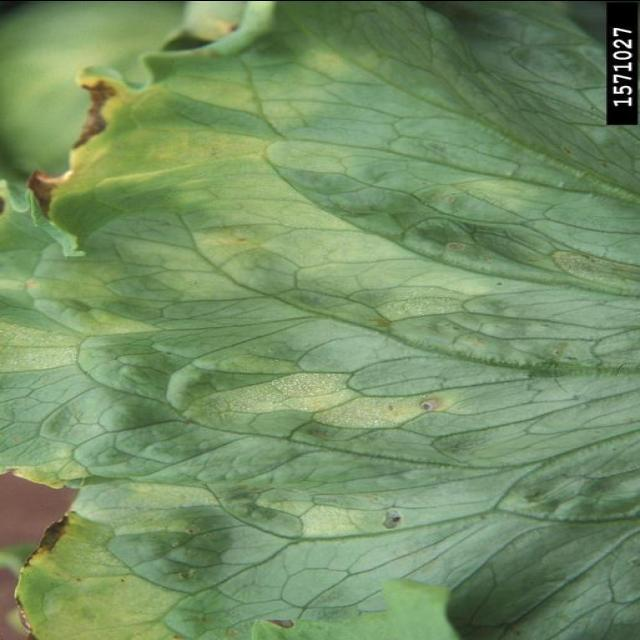Bad: (203, 342, 455, 453)
Mature: (21, 39, 225, 270)
